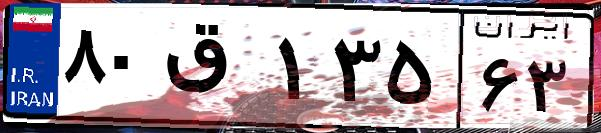0: (110, 28, 158, 98)
1: (270, 28, 330, 110)
3: (330, 28, 385, 110), (525, 38, 570, 115)
5: (385, 28, 445, 110)
6: (475, 38, 525, 113)
8: (57, 26, 110, 100)
ق: (158, 20, 270, 120)
